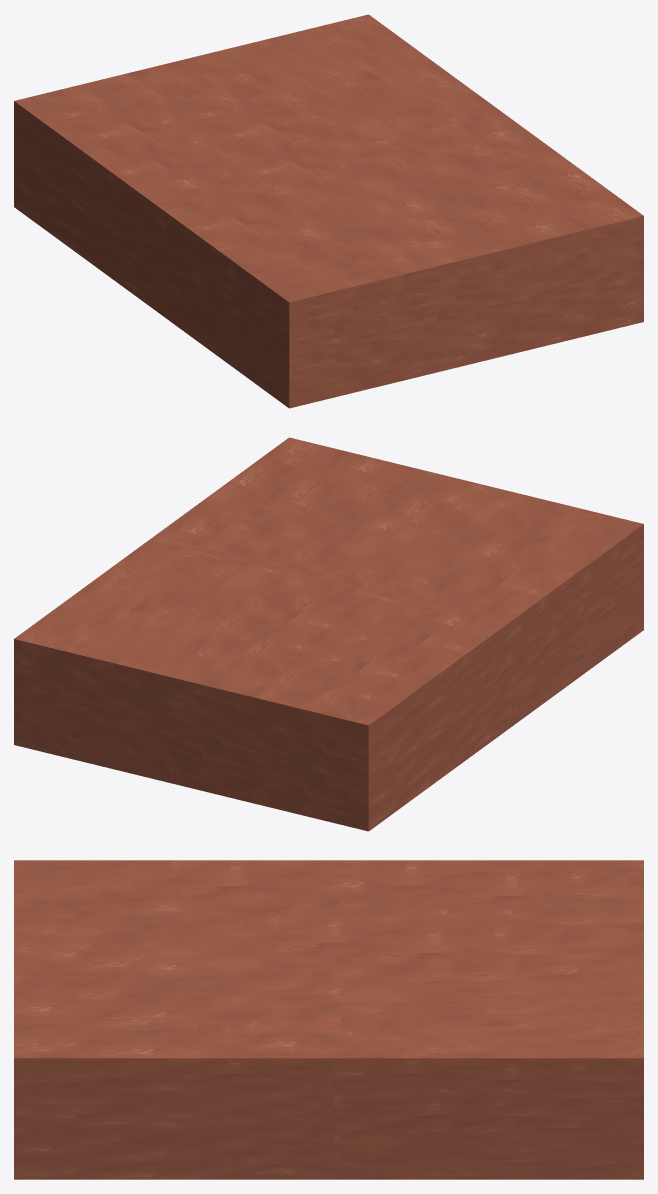
The model's file is firstsense.fbx.
3 renders of one model, top to bottom at view 1: azimuth 30°, elevation 25°; view 2: azimuth 150°, elevation 25°; view 3: azimuth 270°, elevation 25°, orthographic. The views are drawn at different scales.
Parts seen in each view (by area): view 1: pPlane9, pPlane8, pPlane2, pPlane11; view 2: pPlane9, pPlane6, pPlane2, pPlane11; view 3: pPlane9, pPlane7, pPlane11.
Part boxes in pixels (<box>): pPlane9: <box>14,14,643,302</box>; pPlane8: <box>289,216,643,408</box>; pPlane2: <box>14,101,289,407</box>; pPlane11: <box>149,115,508,309</box>; pPlane9: <box>14,437,643,725</box>; pPlane6: <box>14,639,368,831</box>; pPlane2: <box>368,524,643,830</box>; pPlane11: <box>150,536,509,731</box>; pPlane9: <box>14,860,643,1058</box>; pPlane7: <box>14,1058,643,1179</box>; pPlane11: <box>321,860,333,1179</box>.
Bounding box in the file's own units: 1255 × 358 × 1686.
Materials: 1 (1 with a texture image).
